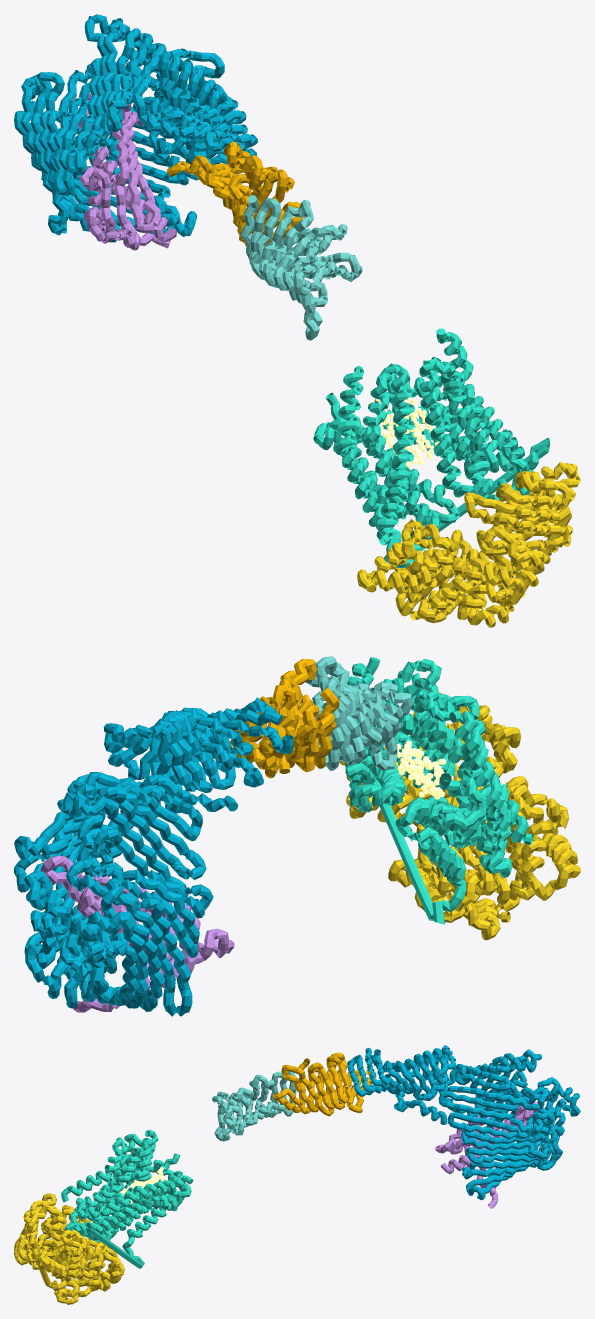
The model's file is 9P7P_assembled_pieces.glb.
The picture shows the model from 3 angles, top to bottom: view 1: azimuth 30°, elevation 25°; view 2: azimuth 150°, elevation 25°; view 3: azimuth 270°, elevation 25°; orthographic projection. The views are drawn at different scales.
Parts seen in each view (by area): view 1: Piece_LPT_LptD_Barrel, Piece_LPT_LptFG_Permease, Piece_LPT_LptB_Dimer, Piece_LPT_LptC_Coupler, Piece_LPT_LptE_Plug, Piece_LPT_LptA_Bridge, Piece_LPT_Bound_LPS; view 2: Piece_LPT_LptD_Barrel, Piece_LPT_LptFG_Permease, Piece_LPT_LptB_Dimer, Piece_LPT_LptC_Coupler, Piece_LPT_LptA_Bridge, Piece_LPT_LptE_Plug, Piece_LPT_Bound_LPS; view 3: Piece_LPT_LptD_Barrel, Piece_LPT_LptFG_Permease, Piece_LPT_LptB_Dimer, Piece_LPT_LptA_Bridge, Piece_LPT_LptC_Coupler, Piece_LPT_LptE_Plug.
Boxes of the visible parts, box(x1,y1,x2,y2) form: Piece_LPT_LptD_Barrel: box(14, 14, 257, 242); Piece_LPT_LptFG_Permease: box(313, 328, 550, 568); Piece_LPT_LptB_Dimer: box(357, 461, 580, 627); Piece_LPT_LptC_Coupler: box(240, 195, 362, 340); Piece_LPT_LptE_Plug: box(78, 93, 176, 250); Piece_LPT_LptA_Bridge: box(167, 141, 304, 246); Piece_LPT_Bound_LPS: box(368, 397, 439, 467); Piece_LPT_LptD_Barrel: box(14, 697, 293, 1016); Piece_LPT_LptFG_Permease: box(345, 657, 533, 924); Piece_LPT_LptB_Dimer: box(339, 692, 580, 940); Piece_LPT_LptC_Coupler: box(299, 656, 412, 770); Piece_LPT_LptA_Bridge: box(213, 659, 339, 778); Piece_LPT_LptE_Plug: box(40, 855, 234, 1012); Piece_LPT_Bound_LPS: box(397, 740, 453, 799); Piece_LPT_LptD_Barrel: box(347, 1045, 580, 1200); Piece_LPT_LptFG_Permease: box(61, 1130, 193, 1268); Piece_LPT_LptB_Dimer: box(14, 1193, 124, 1304); Piece_LPT_LptA_Bridge: box(272, 1052, 376, 1116); Piece_LPT_LptC_Coupler: box(212, 1071, 296, 1141); Piece_LPT_LptE_Plug: box(435, 1102, 538, 1208).
Bounding box in the file's own units: 8.37 × 13.61 × 28.7.
